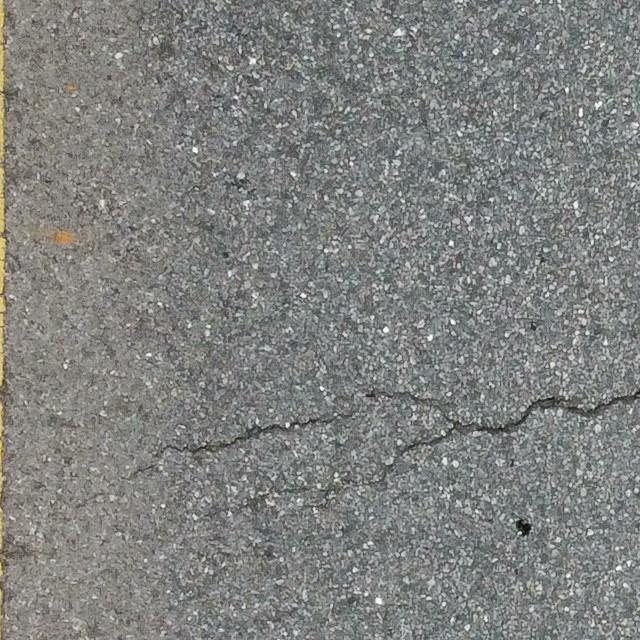TransverseCrack: (367, 391, 640, 484), (124, 412, 352, 479)
